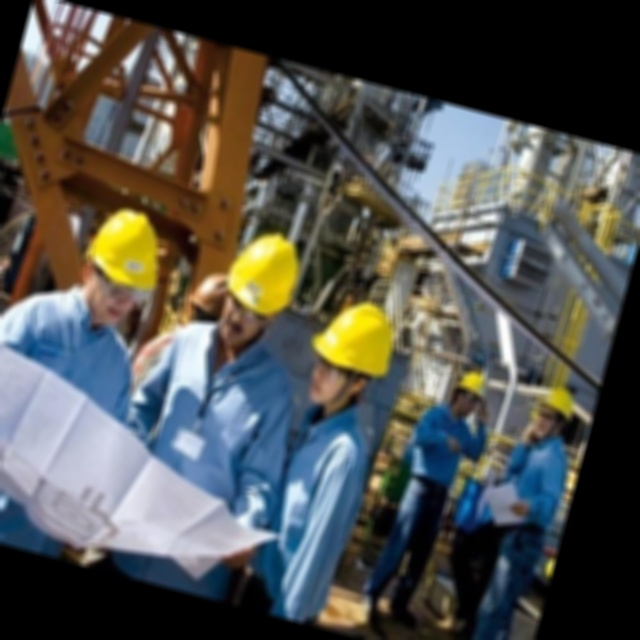Con_Casco: (295, 292, 404, 422), (212, 222, 307, 356)
